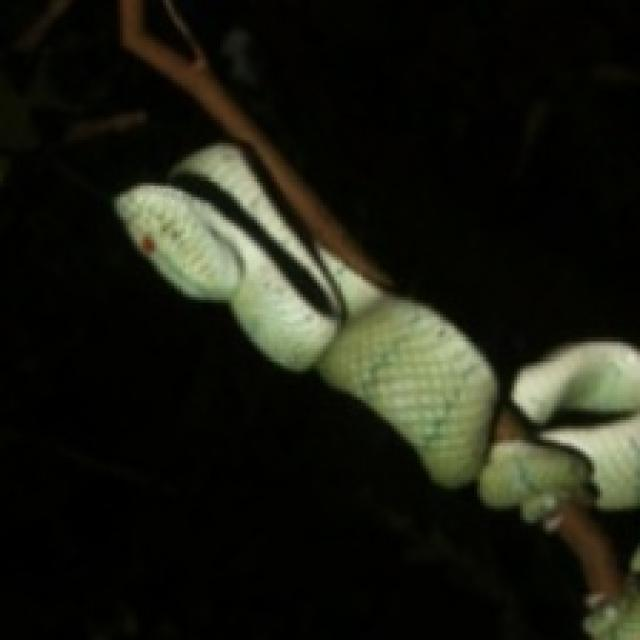north ph temple pitviper: (114, 143, 637, 531), (569, 526, 637, 637)
